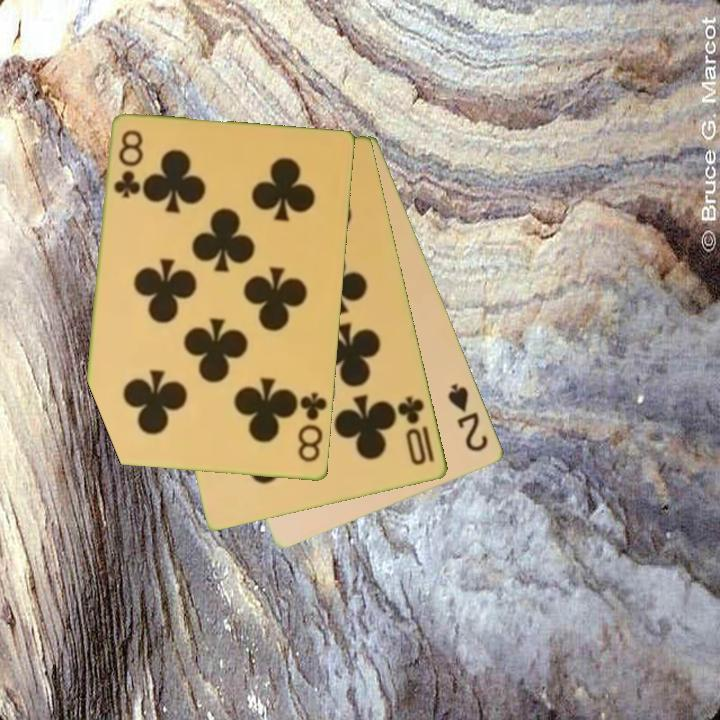10c: (394, 393, 438, 469)
2s: (444, 380, 492, 455)
8c: (294, 389, 330, 466), (111, 126, 145, 201)
